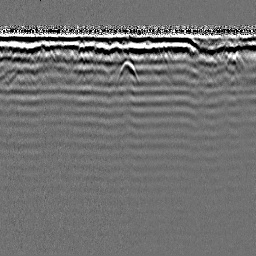cavity: (114, 58, 141, 87)
